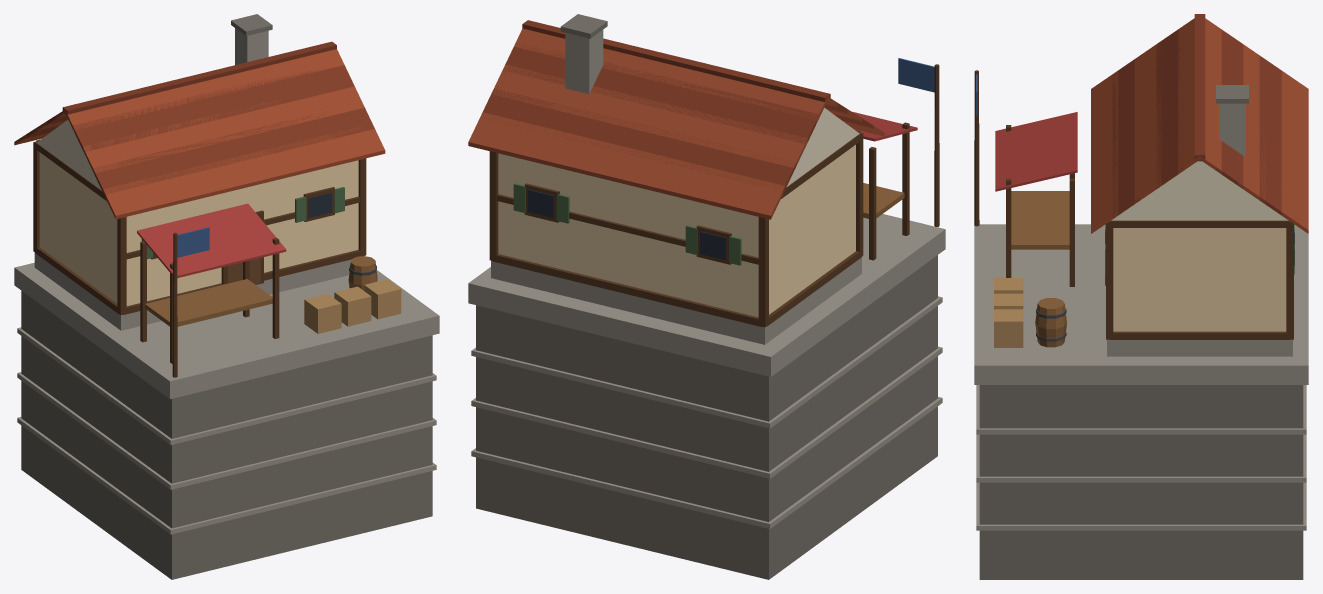
Rendered from trading_post.glb.
3 renders of one model, left to right at view 1: azimuth 30°, elevation 25°; view 2: azimuth 150°, elevation 25°; view 3: azimuth 270°, elevation 25°, orthographic. The views are drawn at different scales.
Parts seen in each view (by area): view 1: trading_post; view 2: trading_post; view 3: trading_post.
Part boxes in pixels (x1,y1,x2,y2): trading_post: (14,14,439,579); trading_post: (468,14,945,579); trading_post: (974,14,1308,579).
Size of the model in its own units: 6.3 by 9.45 by 6.3.
